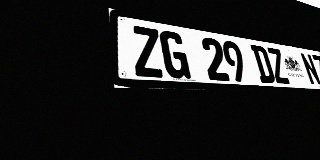2: (200, 36, 230, 81)
9: (220, 40, 249, 82)
D: (250, 44, 276, 83)
G: (159, 30, 191, 79)
N: (299, 52, 320, 86)
Z: (130, 25, 165, 78), (266, 47, 291, 84), (311, 54, 320, 86)
